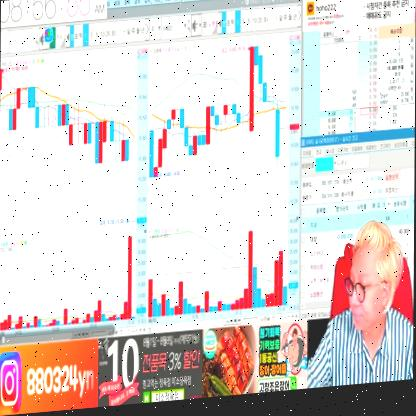streamer: (307, 221, 415, 394)
